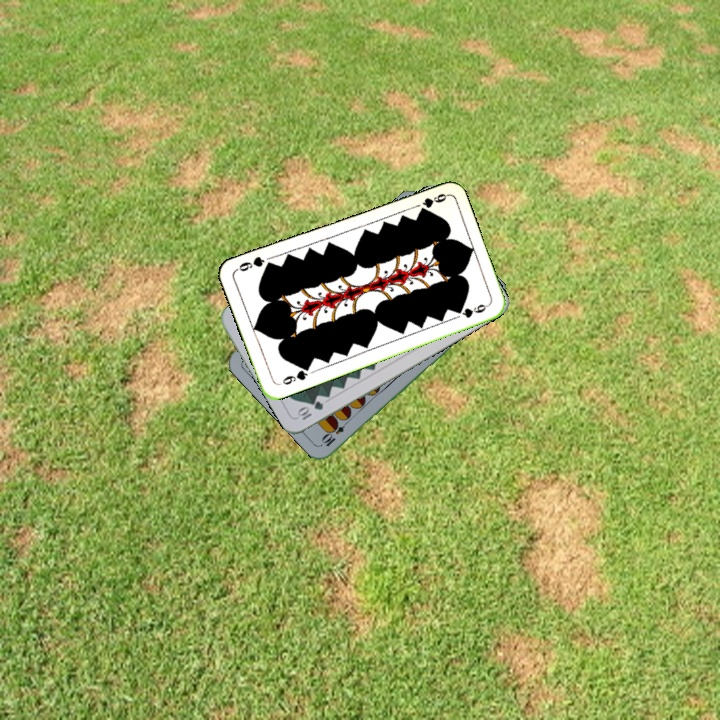E10: (318, 415, 352, 449)
G10: (293, 397, 326, 423)
G9: (278, 362, 312, 387), (418, 189, 449, 210)
